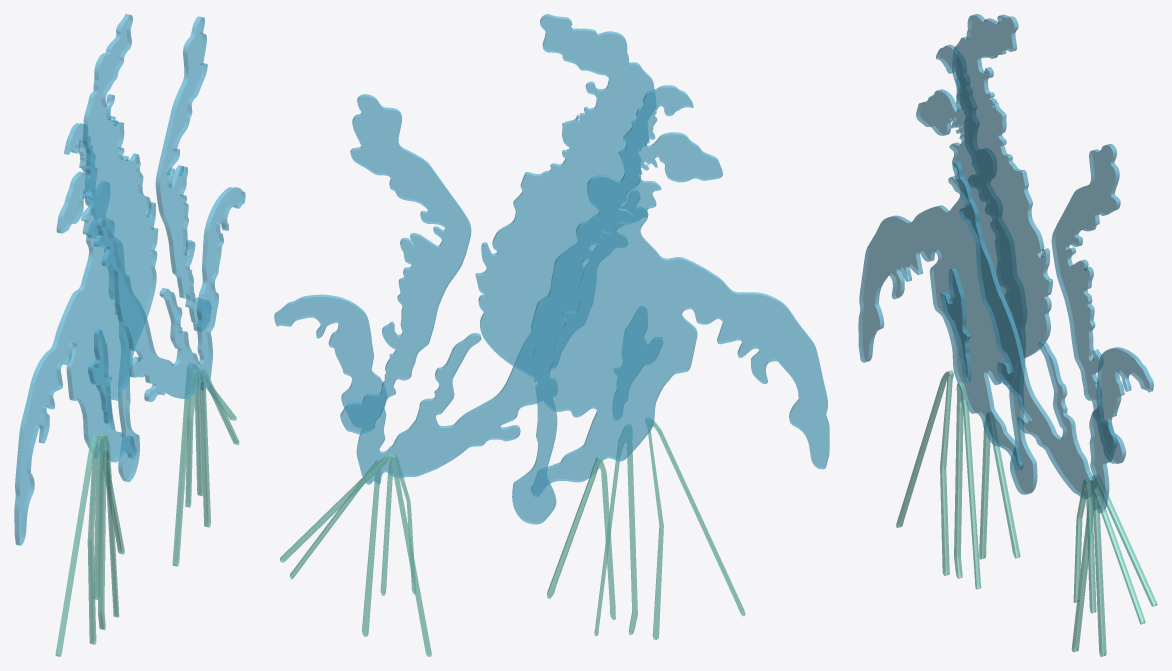
The picture shows the model from 3 angles, left to right: view 1: azimuth 30°, elevation 25°; view 2: azimuth 150°, elevation 25°; view 3: azimuth 270°, elevation 25°; orthographic projection. The views are drawn at different scales.
Visible parts, largest first — view 1: BLUE.1, GREENBLUE.1; view 2: BLUE.1, GREENBLUE.1; view 3: BLUE.1, GREENBLUE.1.
Part boxes in pixels (x1,y1,x2,y2): BLUE.1: (14, 14, 245, 545); GREENBLUE.1: (55, 363, 239, 656); BLUE.1: (274, 14, 829, 524); GREENBLUE.1: (279, 417, 745, 656); BLUE.1: (858, 14, 1153, 513); GREENBLUE.1: (896, 370, 1157, 656).
Size of the model in its own units: 52.65 by 79.75 by 36.31.
